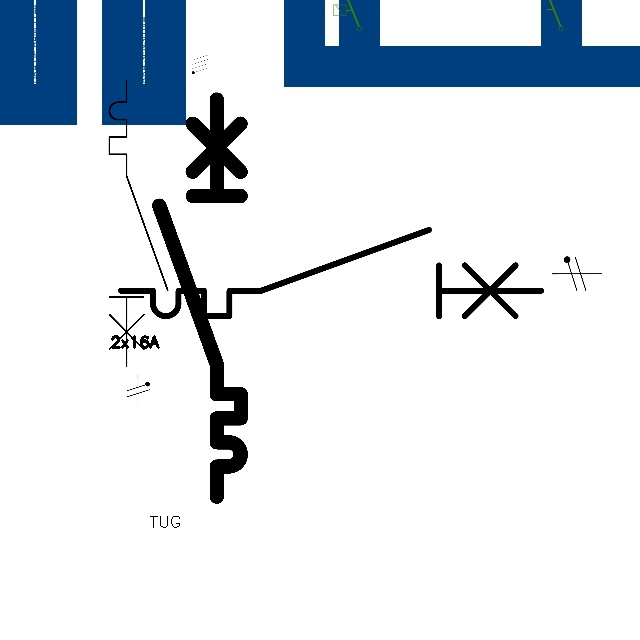interruptor_termomagnetico: (110, 219, 551, 327), (149, 89, 251, 507), (102, 73, 175, 374)
